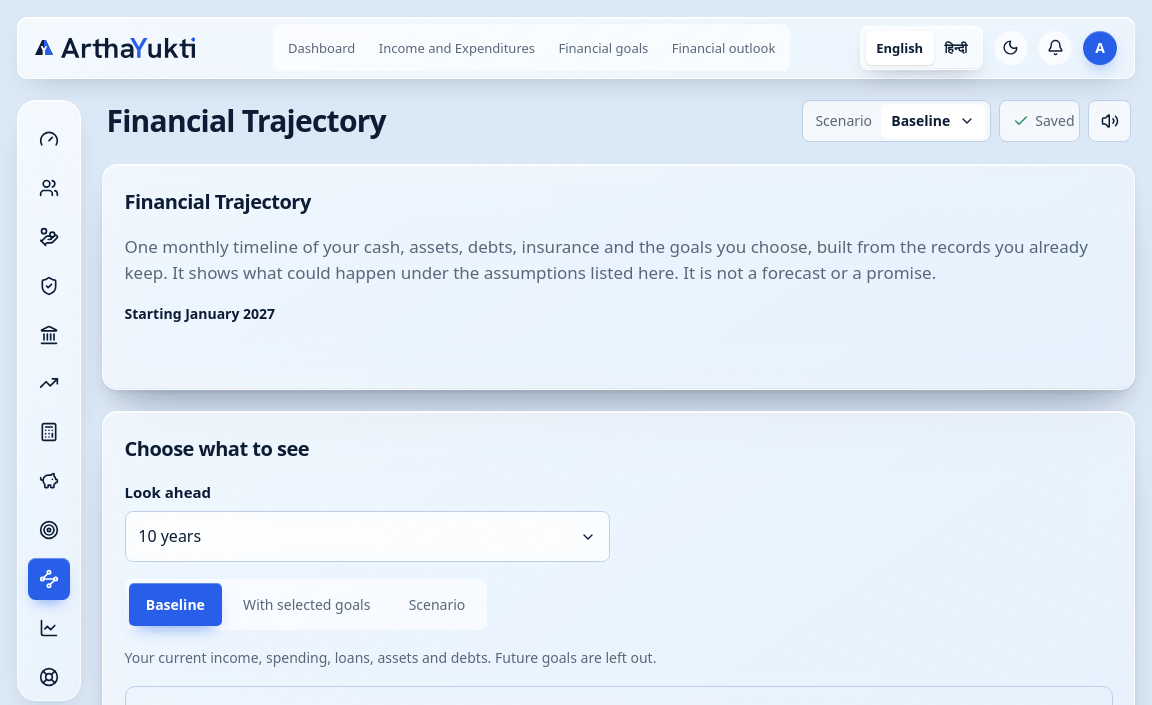
Test: the Financial Trajectory tab › explains an age horizon that has no reference age, in plain words
Step 1. Click the dropdown named "Look ahead" → (170, 536), box [124,511,610,562]
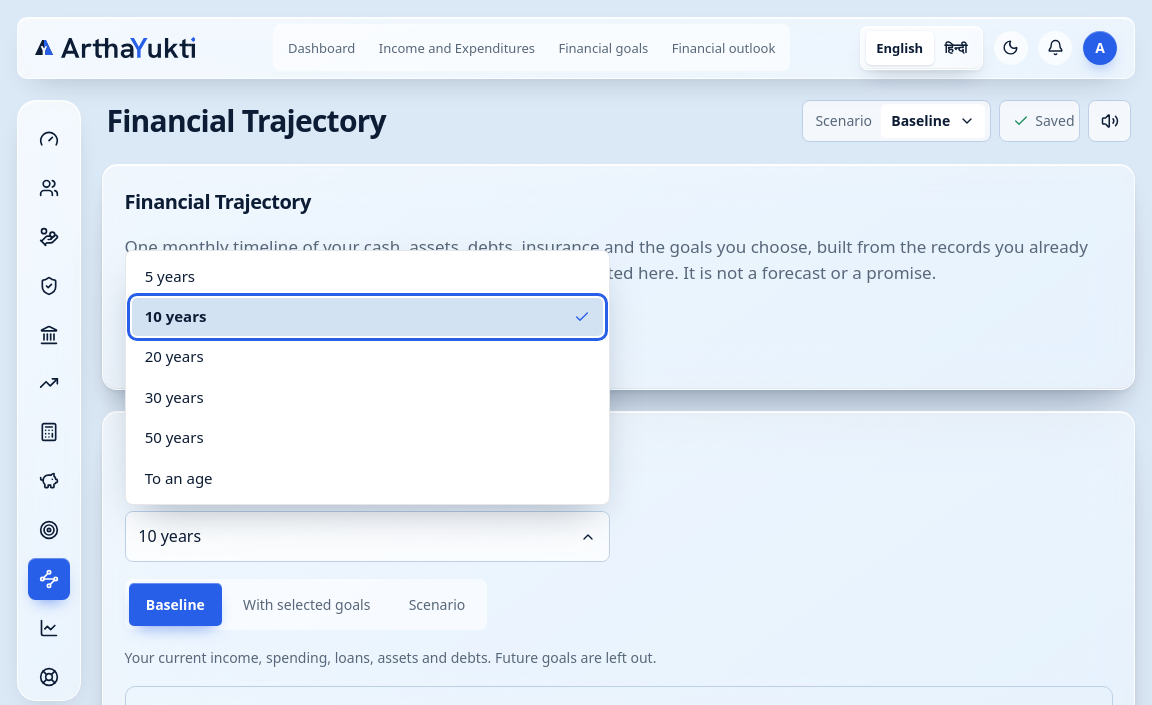
Step 2. Click the option "To an age" → (179, 478), box [132,459,603,497]
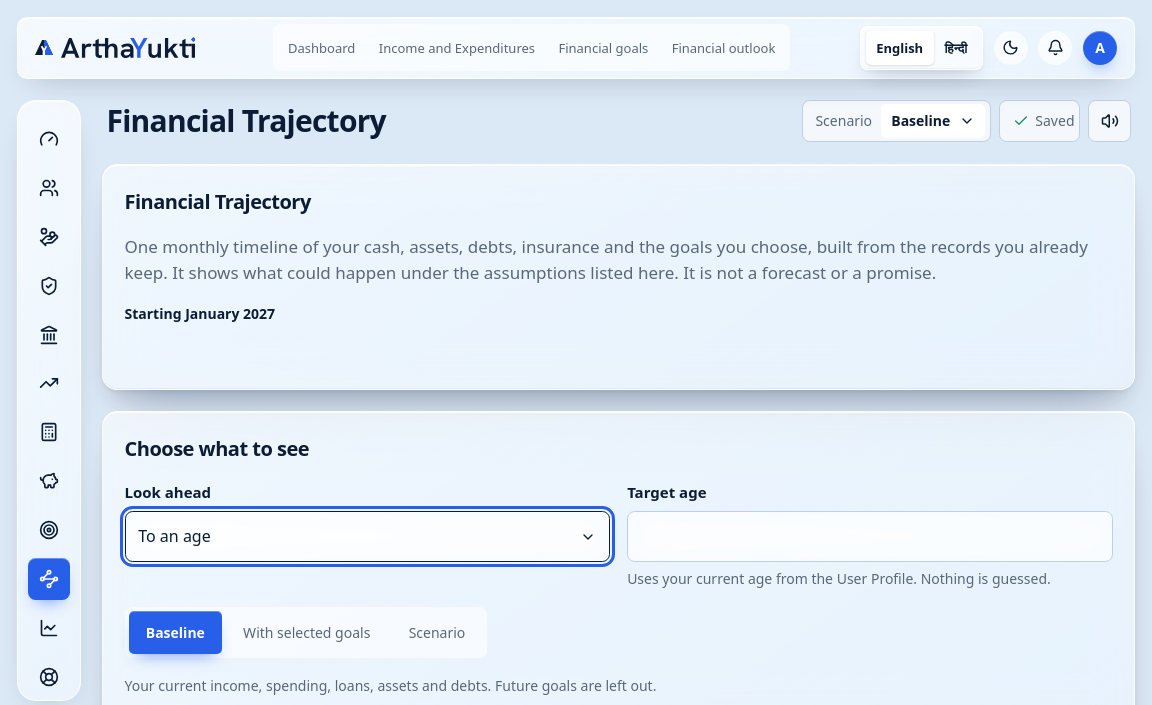
Step 3. Type "60" into the field labelled "Target age" → (870, 536), box [627,511,1113,562]
(page scrolled)
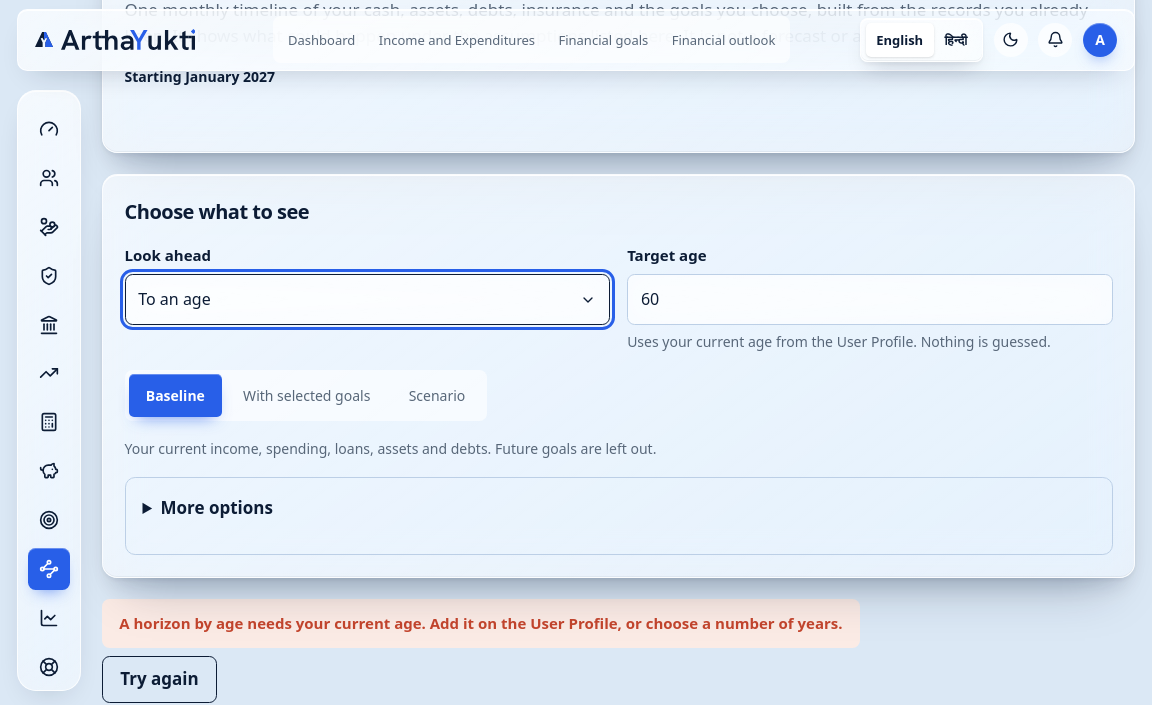
expect the text "needs your current age" is shown: met, box [119,612,843,632]
